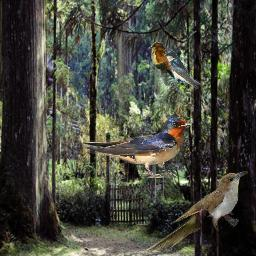Cuckoo: (146, 171, 248, 252), (148, 42, 185, 86)
Swallow: (83, 117, 191, 178), (164, 51, 203, 89)
